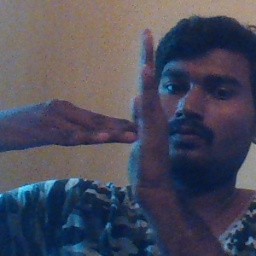Z: (72, 28, 177, 191)
